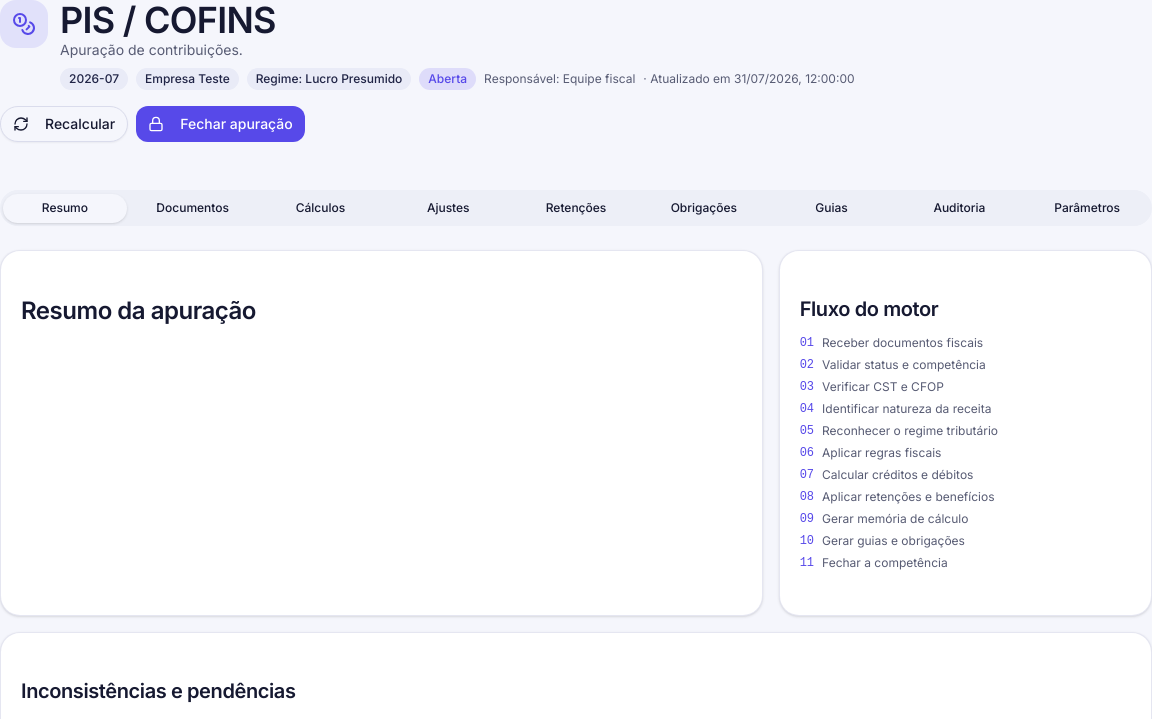
it: rotas de dados na interface › o botão da apuração abre o painel de guias já filtrado pela origem e pelo contexto
The image size is (1152, 719).
Step 1. Press the mouse on the tab "Guias" → [832, 208], box [770,194,894,222]
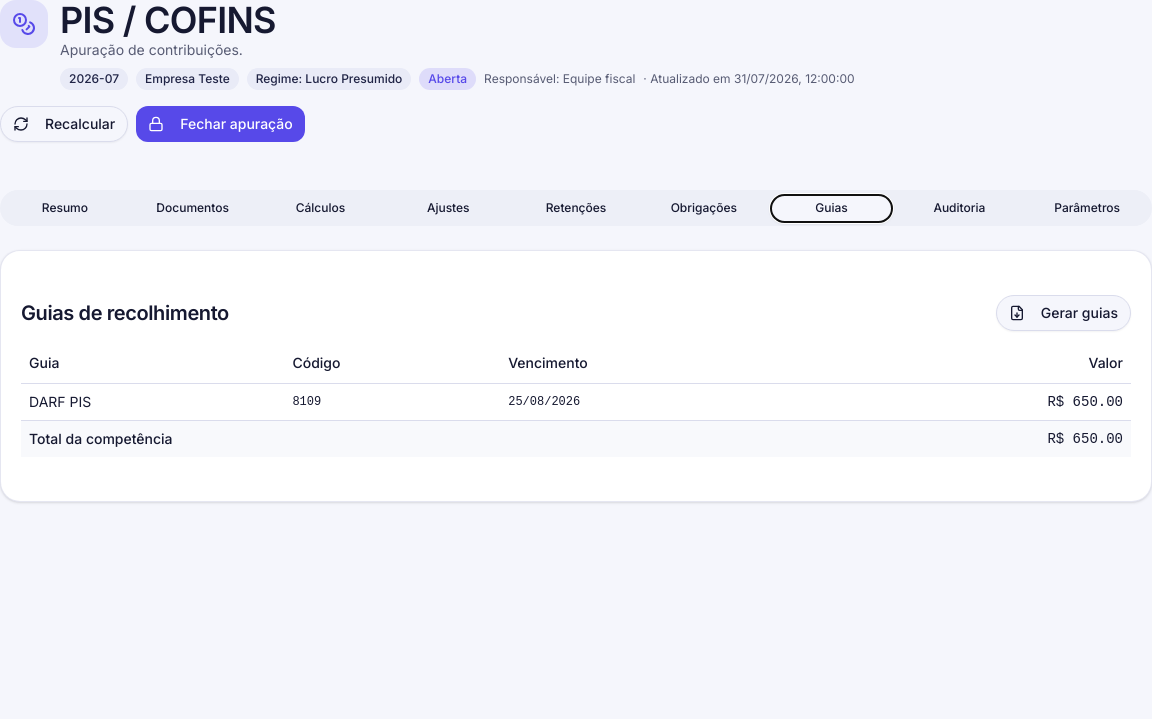
Step 2. Click the button "Gerar guias" → [1063, 313], box [996,295,1131,331]
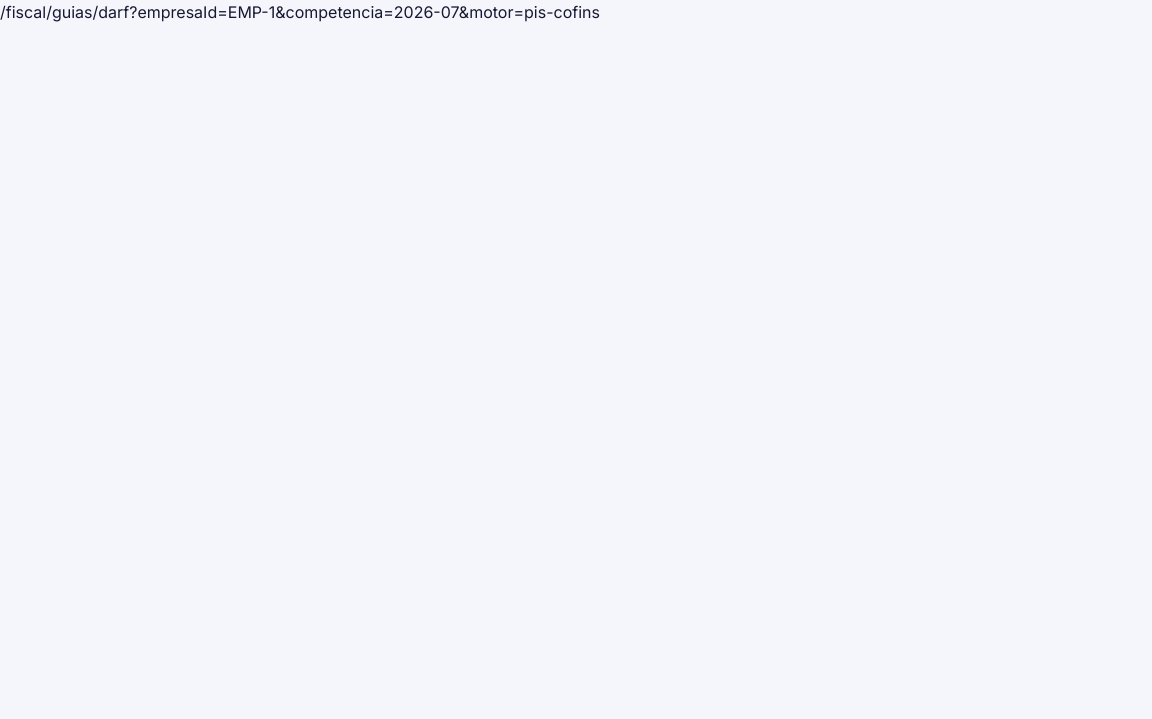
Expected: the text with test id "localizacao" reads "/fiscal/guias/darf?empresaId=EMP-1&competencia=2026-07&motor=pis-cofins", [0,2,600,22]
